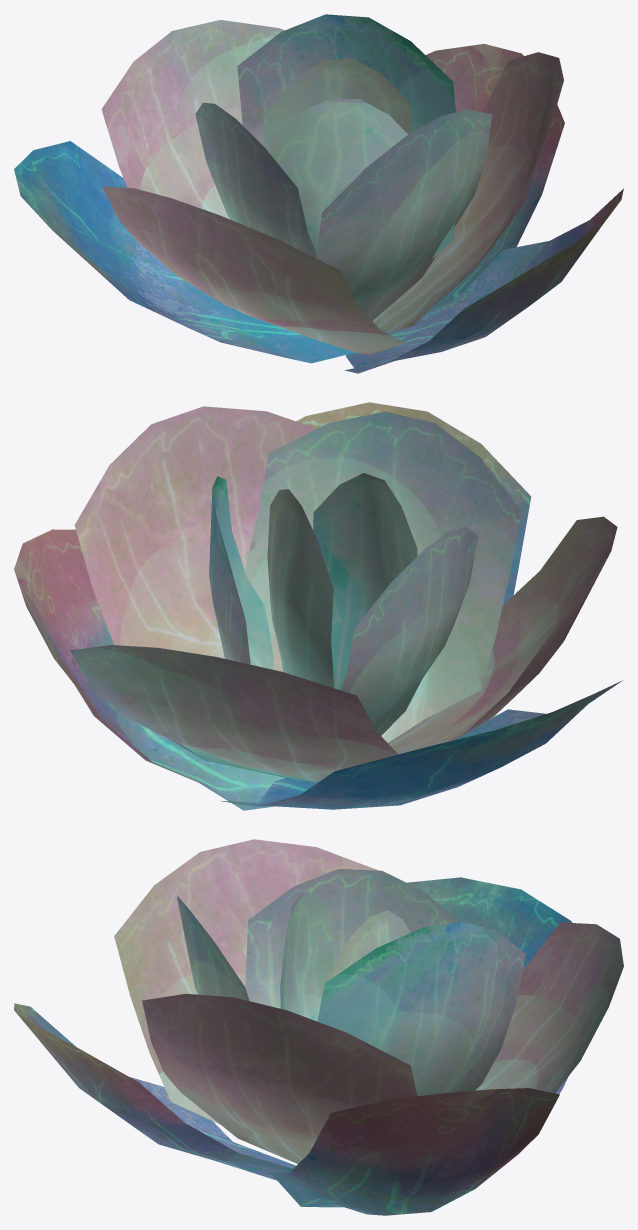
File: Smallplant2.fbx
3 views of the same model, one above another, from view 1: azimuth 30°, elevation 25°; view 2: azimuth 150°, elevation 25°; view 3: azimuth 270°, elevation 25° (orthographic). The views are drawn at different scales.
Visible parts, largest first — view 1: pPlane26; view 2: pPlane26; view 3: pPlane26.
Part boxes in pixels (bbox=[...]): pPlane26: bbox=[14, 14, 623, 373]; pPlane26: bbox=[14, 402, 622, 810]; pPlane26: bbox=[14, 839, 623, 1215].
Size of the model in its own units: 63.91 by 35.96 by 67.03.
Materials: 1 (1 with a texture image).
